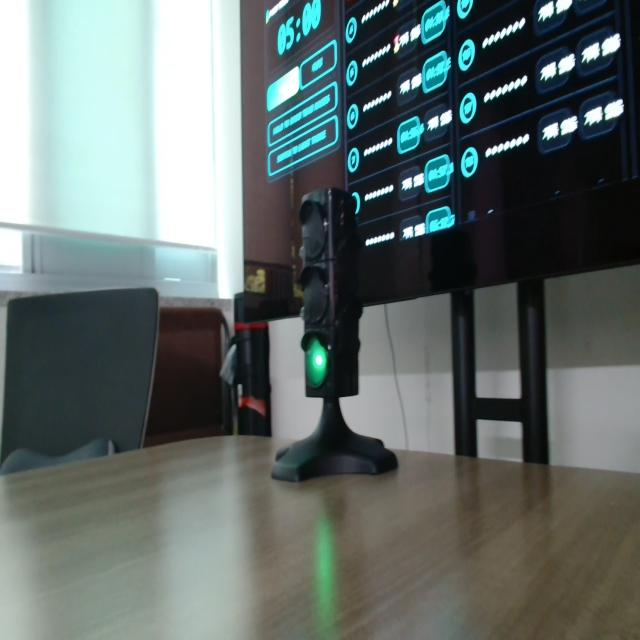green_light: (306, 338, 327, 387)
